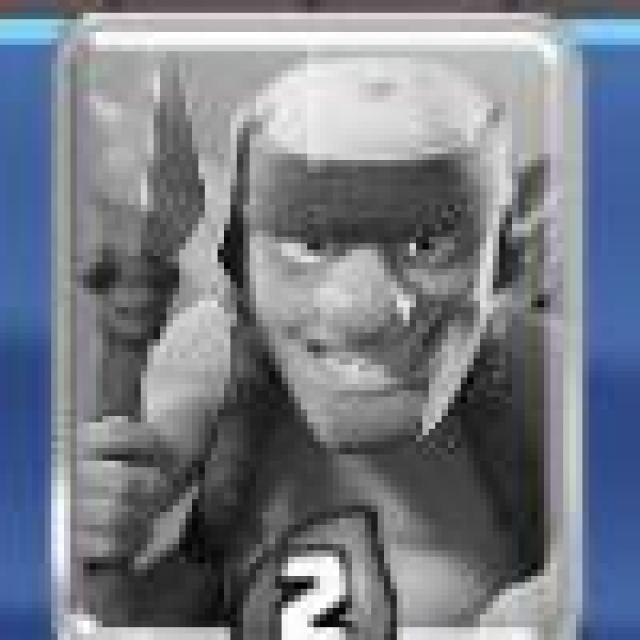Spear_Goblins: (52, 19, 576, 640)
